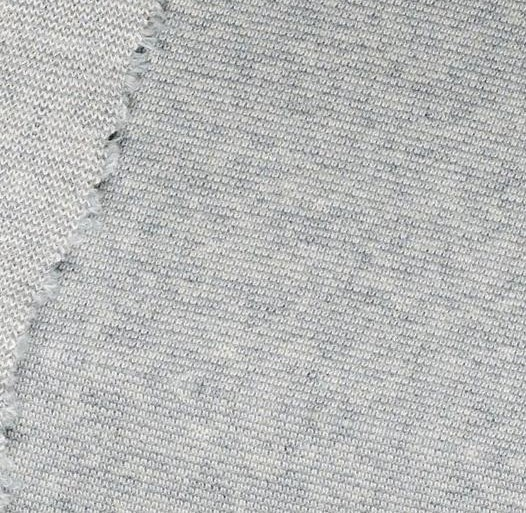slub: (2, 3, 176, 506)
